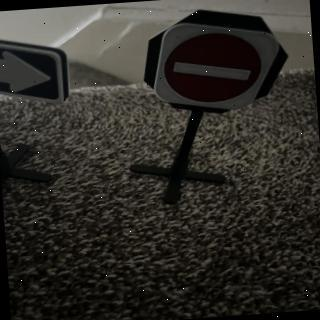sign_noentry: (148, 16, 286, 120)
sign_oneway_right: (1, 33, 71, 111)
